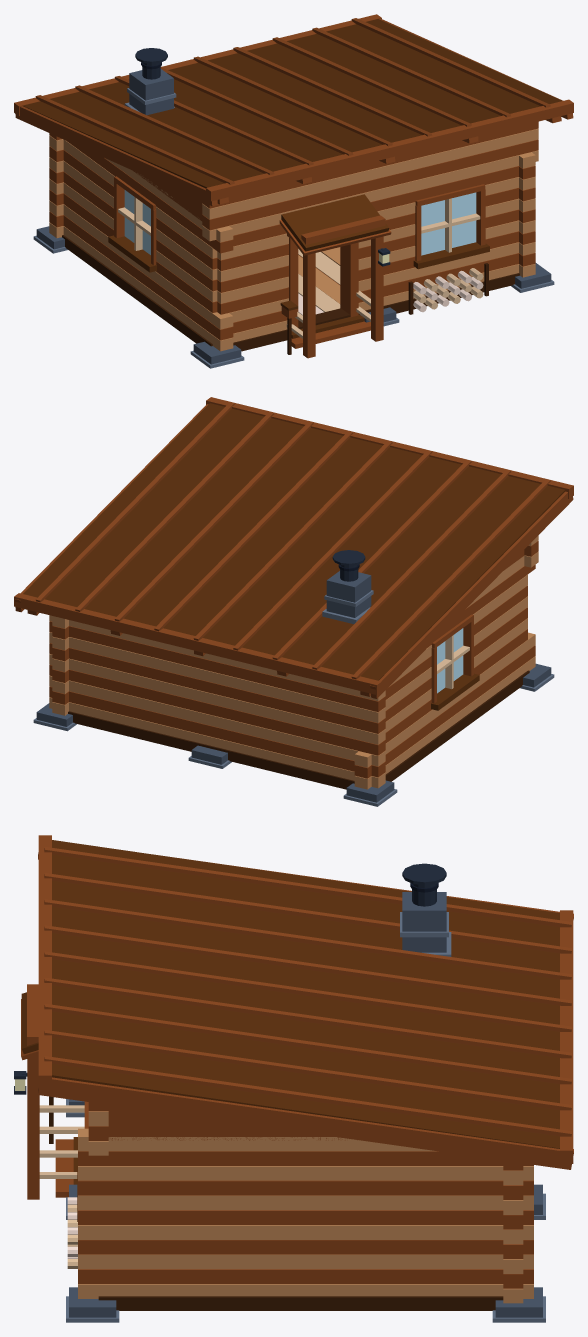
The model's file is player_house.fbx.
3 views of the same model, one above another, from view 1: azimuth 30°, elevation 25°; view 2: azimuth 150°, elevation 25°; view 3: azimuth 270°, elevation 25° (orthographic). The views are drawn at different scales.
Parts seen in each view (by area): view 1: PlayerHouse_SinglePitchRoof, PlayerHouse_TimberWalls, PlayerHouse_ThematicProps, PlayerHouse_Windows, PlayerHouse_Foundation, PlayerHouse_DoorFrame, PlayerHouse_Chimney, PlayerHouse_PlankFloor; view 2: PlayerHouse_SinglePitchRoof, PlayerHouse_TimberWalls, PlayerHouse_Foundation, PlayerHouse_Windows, PlayerHouse_Chimney; view 3: PlayerHouse_SinglePitchRoof, PlayerHouse_TimberWalls, PlayerHouse_Foundation, PlayerHouse_ThematicProps, PlayerHouse_Chimney, PlayerHouse_DoorFrame.
Part boxes in pixels (x1,y1,x2,y2): PlayerHouse_SinglePitchRoof: [14, 14, 573, 206]; PlayerHouse_TimberWalls: [49, 121, 538, 351]; PlayerHouse_ThematicProps: [279, 194, 488, 358]; PlayerHouse_Windows: [108, 176, 489, 272]; PlayerHouse_Foundation: [33, 226, 554, 368]; PlayerHouse_DoorFrame: [287, 233, 370, 348]; PlayerHouse_Chimney: [124, 48, 176, 115]; PlayerHouse_PlankFloor: [298, 247, 340, 315]; PlayerHouse_SinglePitchRoof: [14, 397, 573, 698]; PlayerHouse_TimberWalls: [49, 535, 538, 789]; PlayerHouse_Foundation: [33, 663, 554, 806]; PlayerHouse_Windows: [431, 614, 479, 710]; PlayerHouse_Chimney: [322, 550, 373, 624]; PlayerHouse_SinglePitchRoof: [38, 835, 573, 1169]; PlayerHouse_TimberWalls: [78, 1102, 533, 1303]; PlayerHouse_Foundation: [66, 1099, 545, 1322]; PlayerHouse_ThematicProps: [14, 984, 84, 1268]; PlayerHouse_Chimney: [400, 863, 451, 956]; PlayerHouse_DoorFrame: [55, 1137, 77, 1197].
Size of the model in its own units: 19.2 by 10.08 by 18.91.
